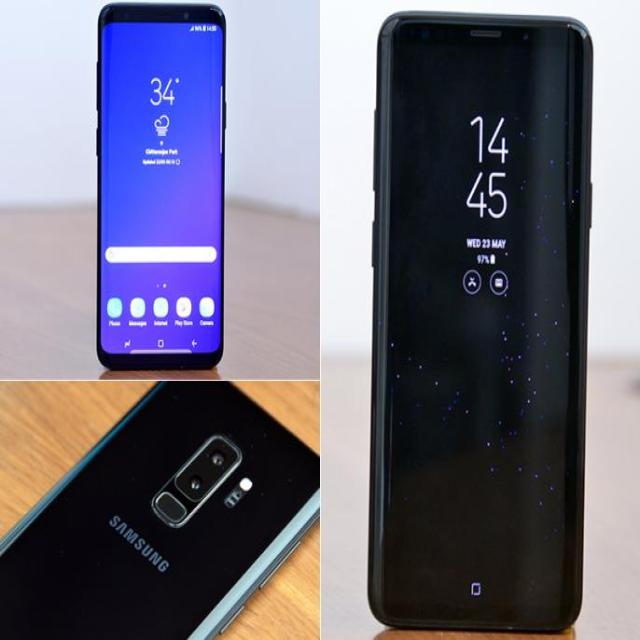mobile phone: (366, 8, 593, 632), (0, 378, 320, 638), (94, 0, 227, 371)
